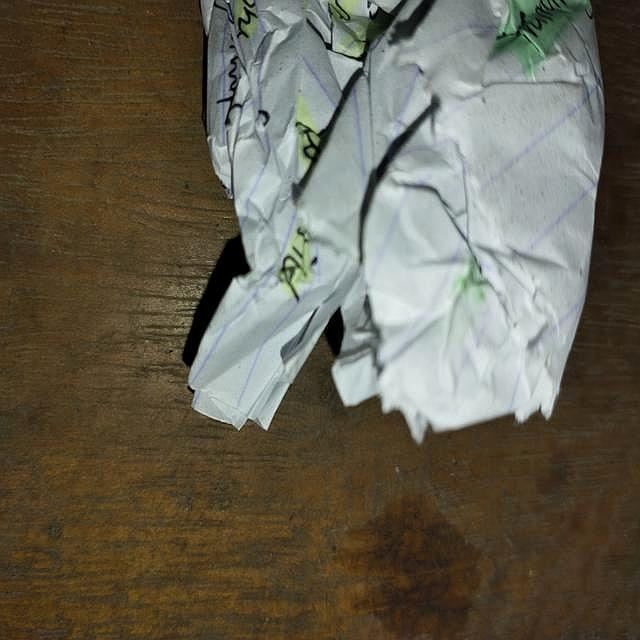Biodegradable: (185, 1, 611, 431)
